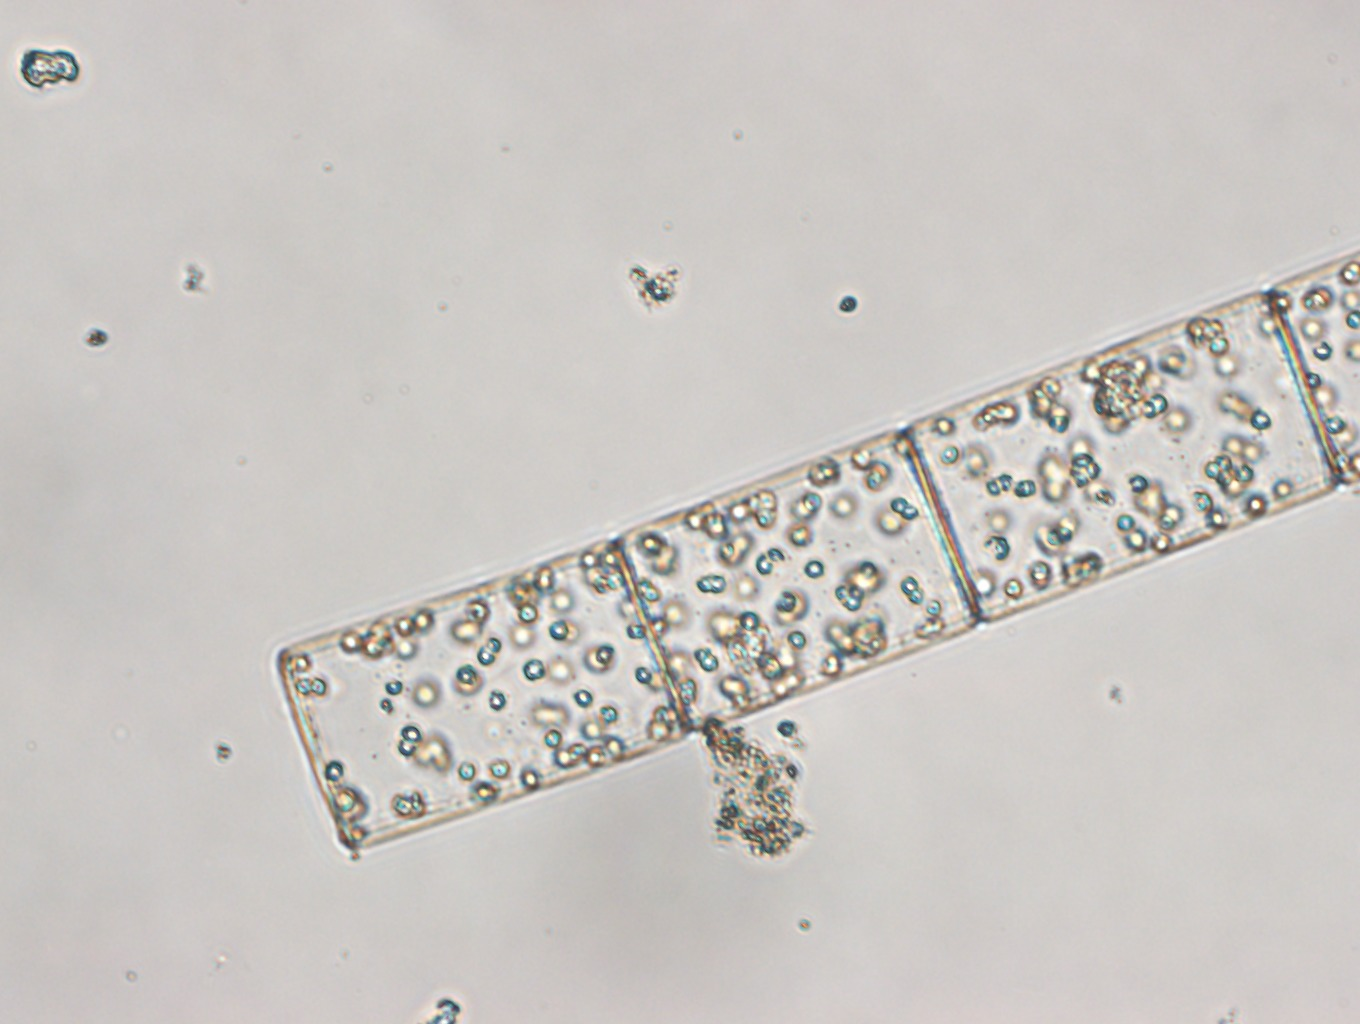guinardia flaccida: (275, 248, 1360, 855)
